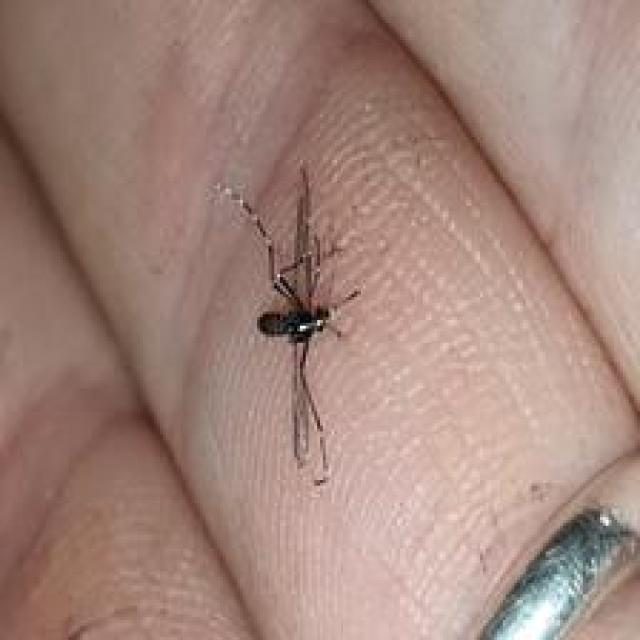Aedes albopictus: (207, 162, 364, 487)
